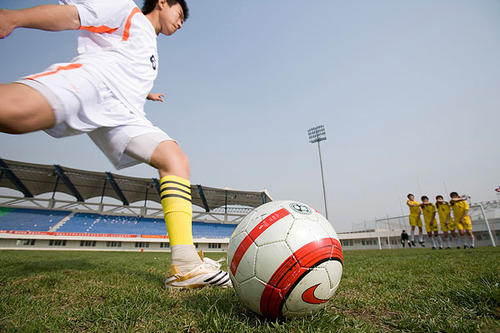football: (226, 198, 344, 322)
